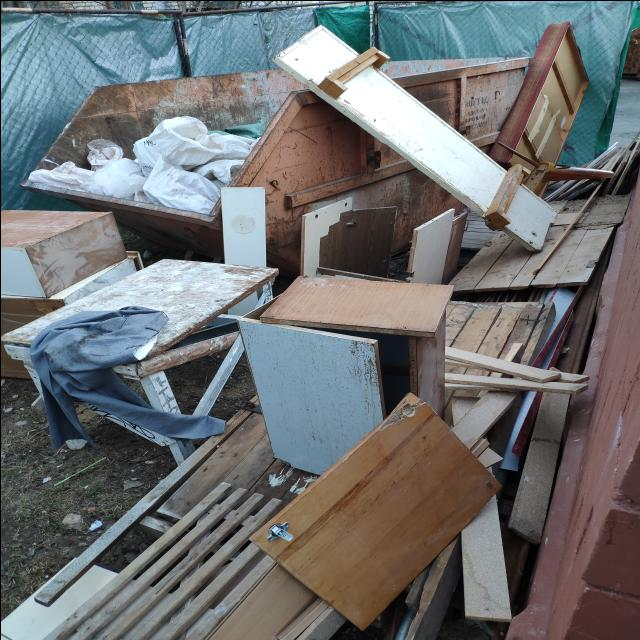entulho: (152, 394, 494, 637), (330, 70, 510, 217), (509, 396, 607, 640), (237, 317, 386, 477), (446, 27, 586, 176), (24, 305, 164, 453), (226, 83, 384, 202), (440, 298, 588, 394), (243, 276, 451, 334), (0, 205, 122, 303), (518, 27, 594, 177), (136, 332, 250, 420), (294, 198, 405, 288), (458, 496, 512, 622), (524, 222, 616, 288), (271, 20, 359, 86), (126, 108, 216, 169), (408, 203, 464, 281), (138, 158, 218, 200), (504, 183, 556, 247), (87, 153, 136, 200), (23, 162, 98, 185)
